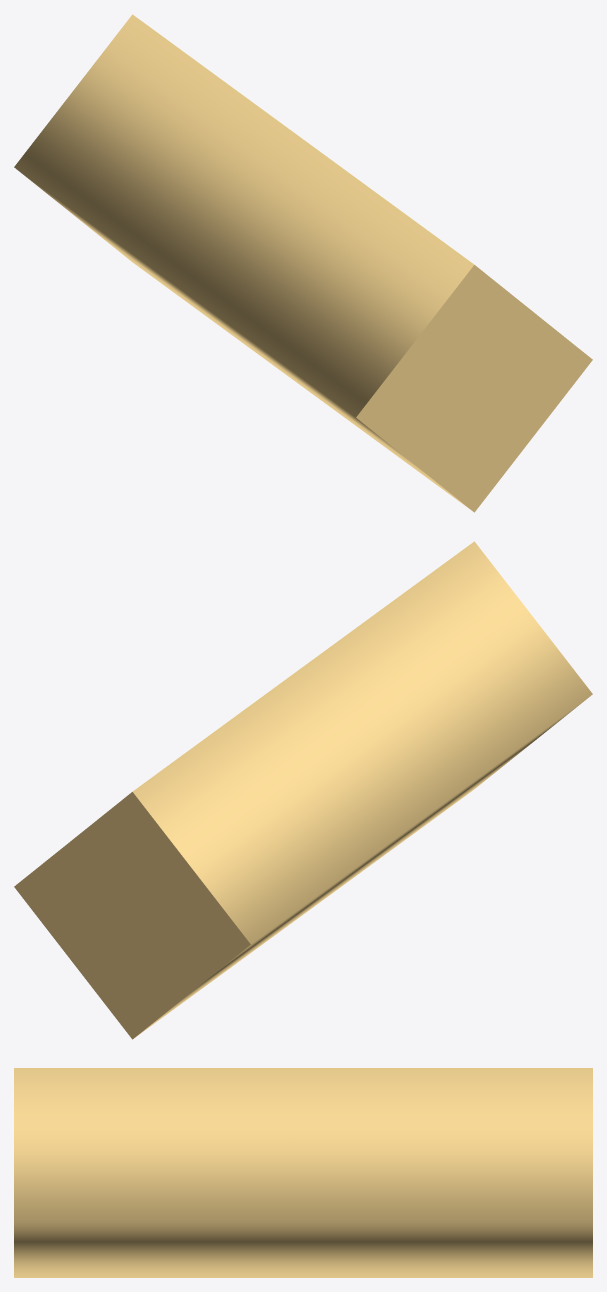
The model's file is Douille.FBX.
3 renders of one model, top to bottom at view 1: azimuth 30°, elevation 25°; view 2: azimuth 150°, elevation 25°; view 3: azimuth 270°, elevation 25°, orthographic. The views are drawn at different scales.
Parts seen in each view (by area): view 1: Cylinder01; view 2: Cylinder01; view 3: Cylinder01.
Part boxes in pixels (x1=…): Cylinder01: x1=14, y1=14, x2=592, y2=512; Cylinder01: x1=14, y1=541, x2=592, y2=1039; Cylinder01: x1=14, y1=1068, x2=592, y2=1277.
Size of the model in its own units: 6.39 by 6.39 by 15.98.
